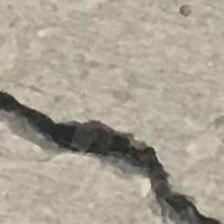Crack: (0, 78, 224, 222)
